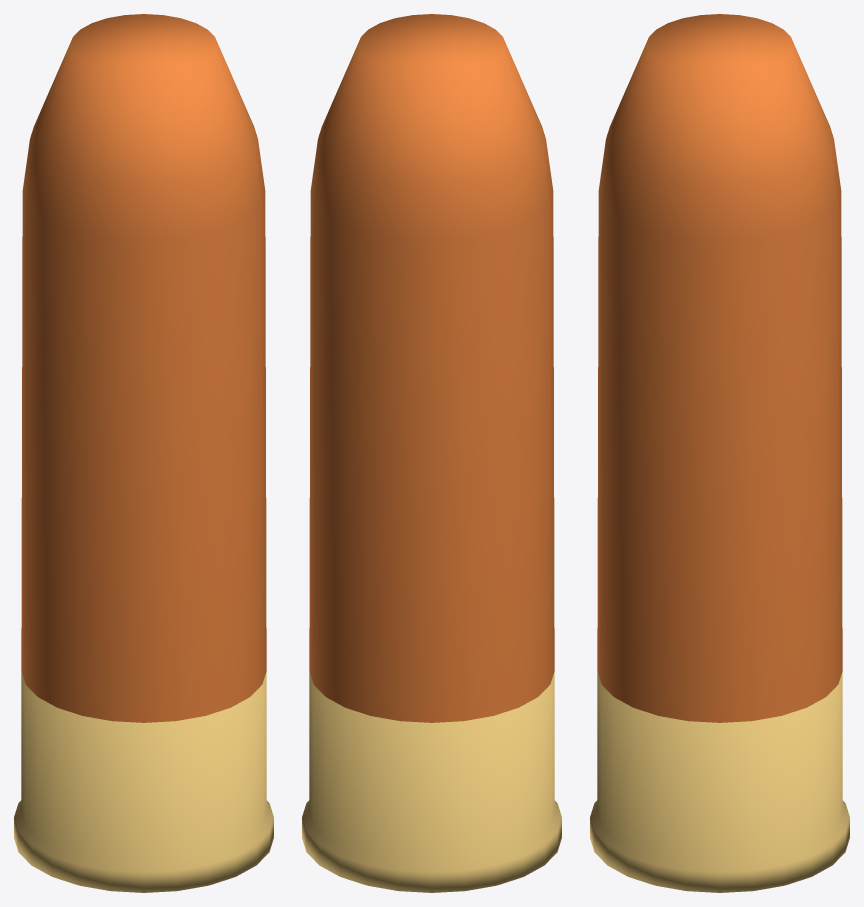
The picture shows the model from 3 angles, left to right: view 1: azimuth 30°, elevation 25°; view 2: azimuth 150°, elevation 25°; view 3: azimuth 270°, elevation 25°; orthographic projection.
Parts seen in each view (by area): view 1: cuerpo, culote; view 2: cuerpo, culote; view 3: cuerpo, culote.
Boxes of the visible parts, x1=… form: cuerpo: x1=21, y1=14, x2=266, y2=722; culote: x1=14, y1=671, x2=273, y2=892; cuerpo: x1=309, y1=14, x2=554, y2=722; culote: x1=302, y1=671, x2=561, y2=892; cuerpo: x1=597, y1=14, x2=842, y2=722; culote: x1=590, y1=671, x2=849, y2=892.
Size of the model in its own units: 0.0226 by 0.076 by 0.0226.
